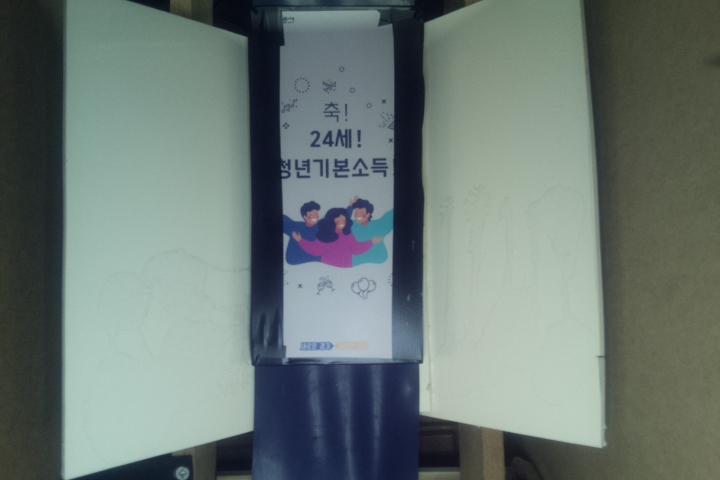book: (246, 1, 427, 366)
